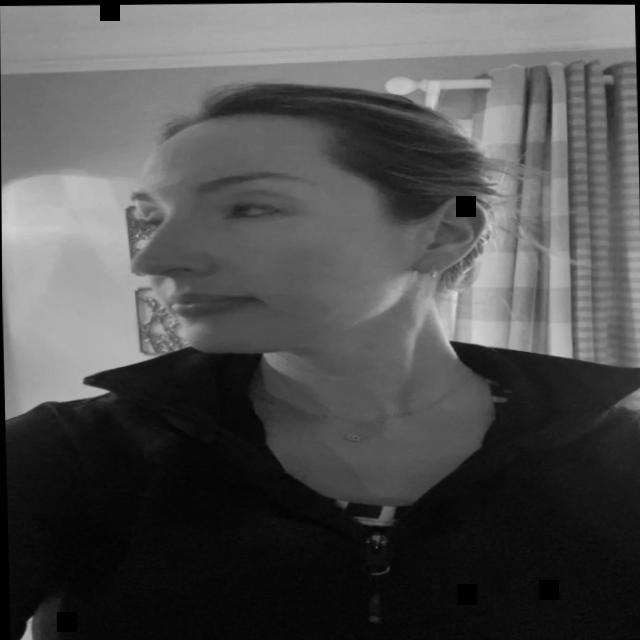NO-Mask: (127, 92, 464, 370)
